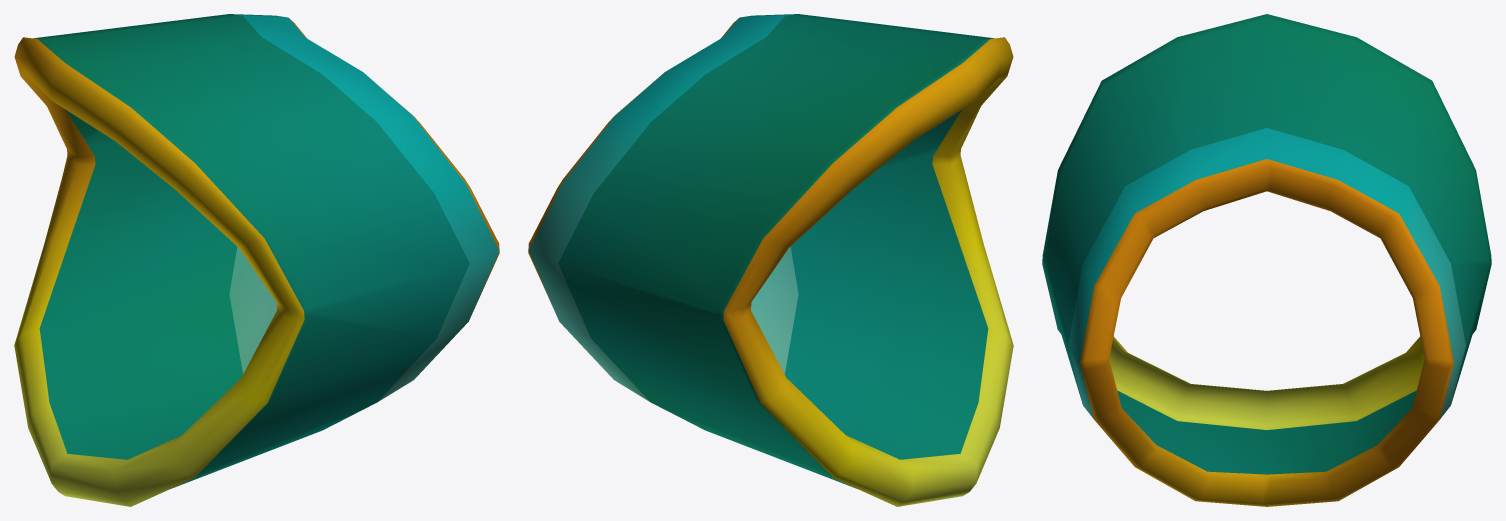
Rendered from DragonMiddle.fbx.
3 renders of one model, left to right at view 1: azimuth 30°, elevation 25°; view 2: azimuth 150°, elevation 25°; view 3: azimuth 270°, elevation 25°, orthographic. The views are drawn at different scales.
Parts seen in each view (by area): view 1: Circle.003; view 2: Circle.003; view 3: Circle.003.
Part boxes in pixels (x1,y1,x2,y2): Circle.003: (14,14,499,506); Circle.003: (528,14,1013,506); Circle.003: (1042,14,1491,506).
Size of the model in its own units: 4.96 by 5.81 by 5.68.
